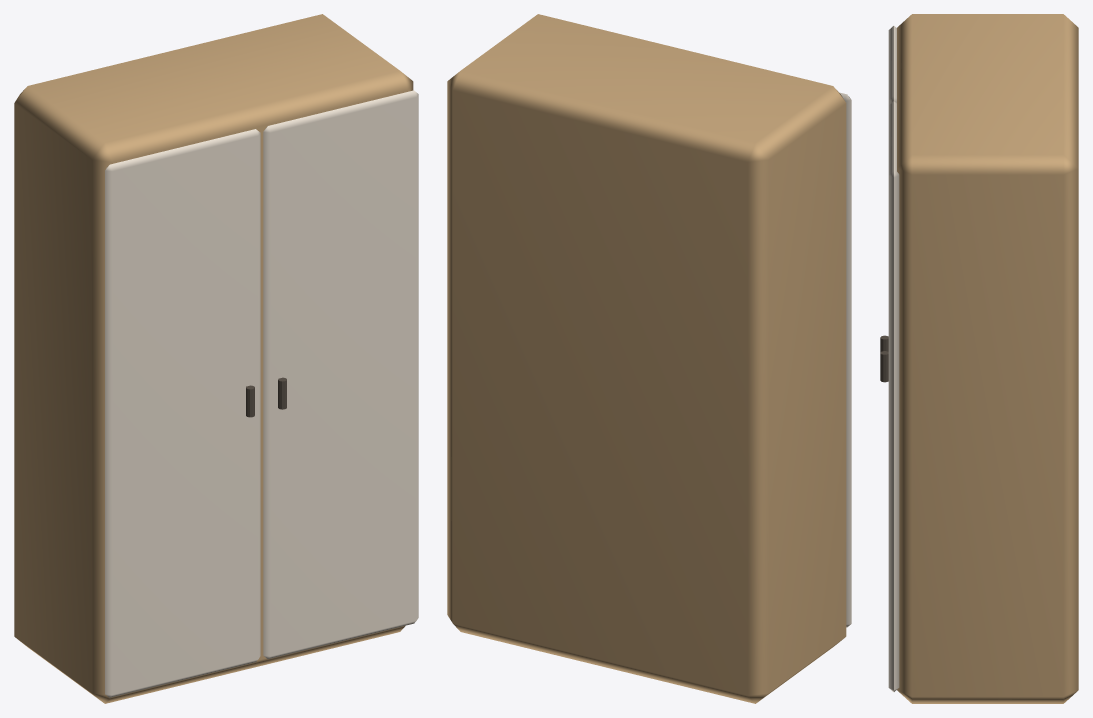
The model's file is wardrobe.glb.
3 views of the same model, side by side, from view 1: azimuth 30°, elevation 25°; view 2: azimuth 150°, elevation 25°; view 3: azimuth 270°, elevation 25° (orthographic). The views are drawn at different scales.
Parts seen in each view (by area): view 1: body, door_1, door_-1; view 2: body, door_-1; view 3: body, door_1, door_-1.
Part boxes in pixels (x1,y1,x2,y2): body: (14,14,413,703); door_1: (263,90,418,658); door_-1: (105,129,260,697); body: (447,14,846,703); door_-1: (839,92,851,627); body: (897,14,1078,703); door_1: (888,101,899,691); door_-1: (888,26,896,105).
Size of the model in its own units: 1.2 by 2 by 0.655.
